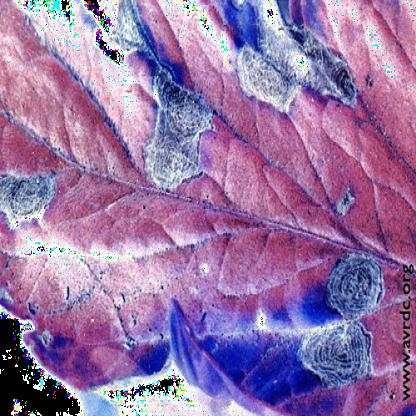tomato early blight leaf: (1, 5, 415, 415)
